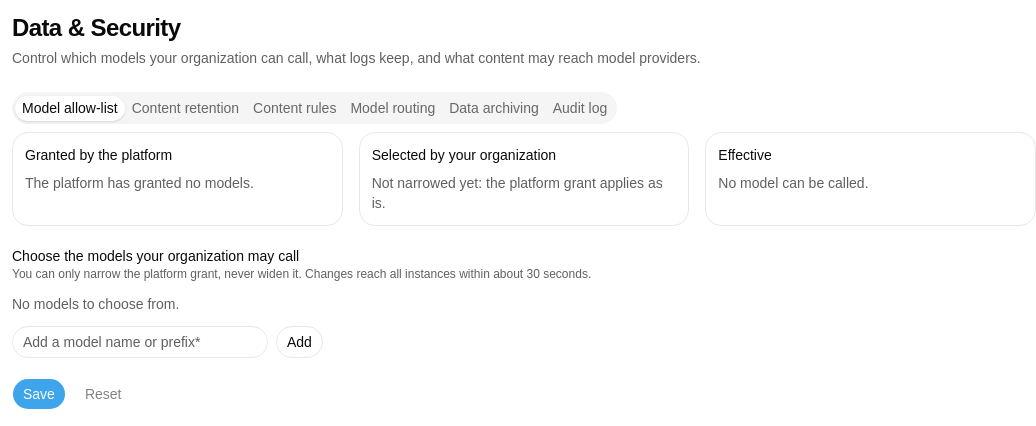
Test case: content retention › a failed retention read is an error state
Click the tab "Content retention".
click(185, 108)  # box [125, 96, 246, 120]
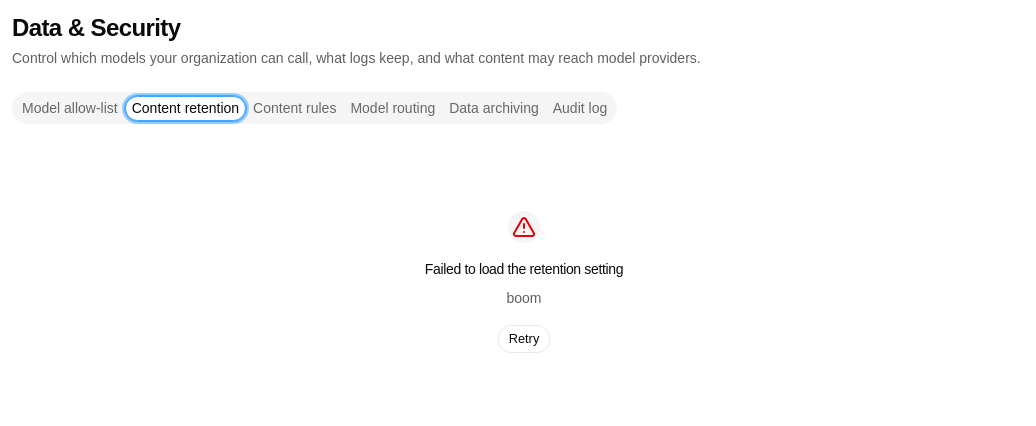
Expected: the text "Failed to load the retention setting" is shown, [425, 259, 623, 279]
Expected: the text "boom" is shown, [506, 287, 542, 309]
